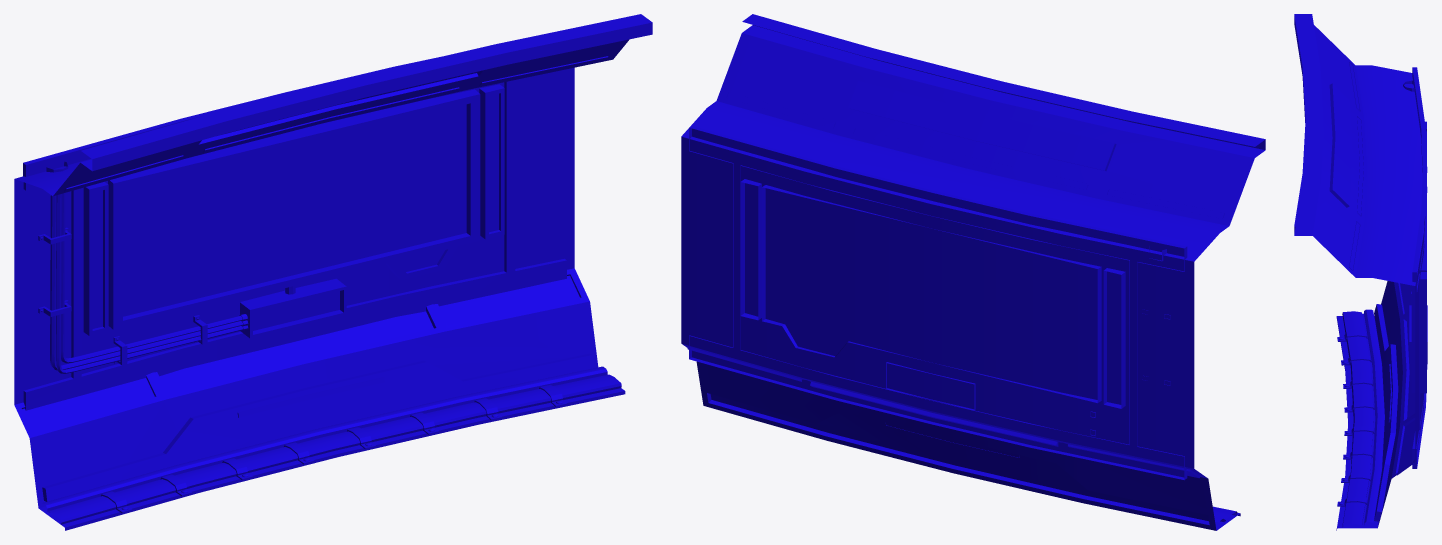
The model's file is Main_Wall_L.fbx.
3 renders of one model, left to right at view 1: azimuth 30°, elevation 25°; view 2: azimuth 150°, elevation 25°; view 3: azimuth 270°, elevation 25°, orthographic. The views are drawn at different scales.
Visible parts, largest first — view 1: Main_Wall_L; view 2: Main_Wall_L; view 3: Main_Wall_L.
Part boxes in pixels (x1=…): Main_Wall_L: x1=14, y1=14, x2=652, y2=530; Main_Wall_L: x1=681, y1=14, x2=1265, y2=530; Main_Wall_L: x1=1294, y1=14, x2=1427, y2=530.
Size of the model in its own units: 1087 by 727 by 289.
